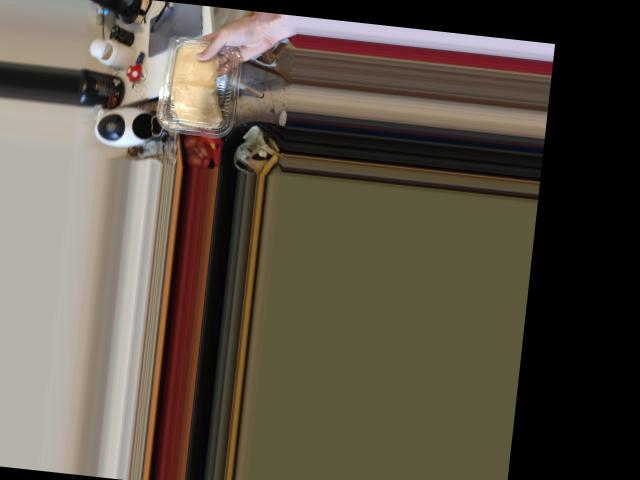cheese: (148, 37, 248, 132)
